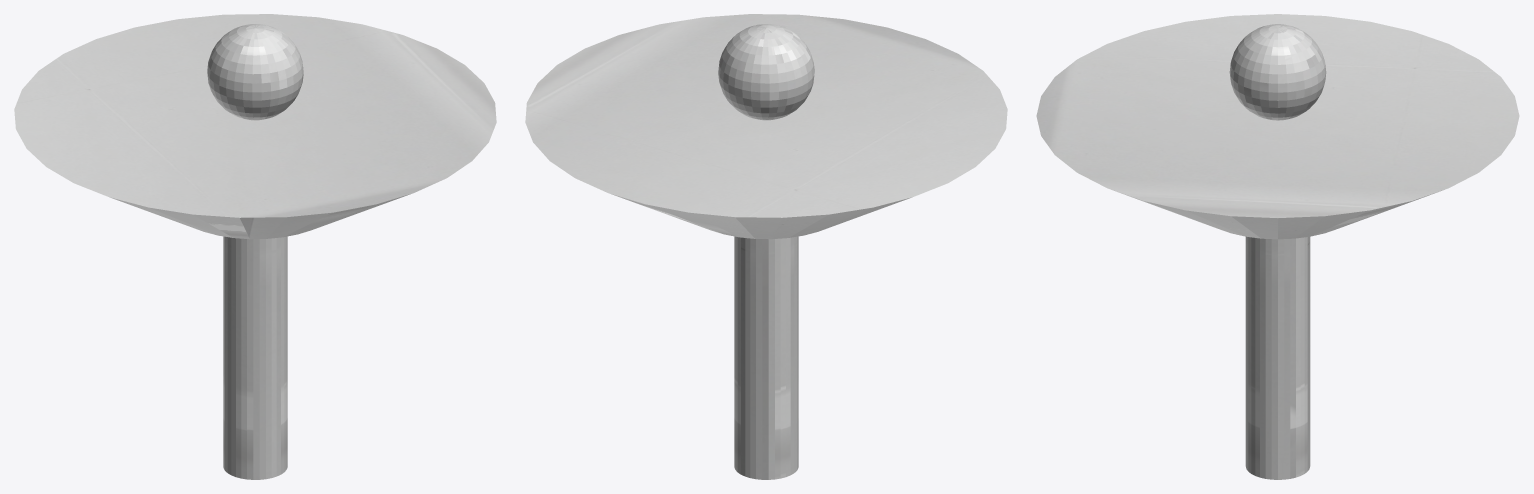
File: dish_small.glb
The picture shows the model from 3 angles, left to right: view 1: azimuth 30°, elevation 25°; view 2: azimuth 150°, elevation 25°; view 3: azimuth 270°, elevation 25°; orthographic projection.
Visible parts, largest first — view 1: Cone; view 2: Cone; view 3: Cone.
Part boxes in pixels (x1,y1,x2,y2): Cone: (14,14,496,479); Cone: (525,14,1007,479); Cone: (1036,14,1519,479).
Bounding box in the file's own units: 0.3 × 0.3 × 0.3.
1 material, 1 textured.
